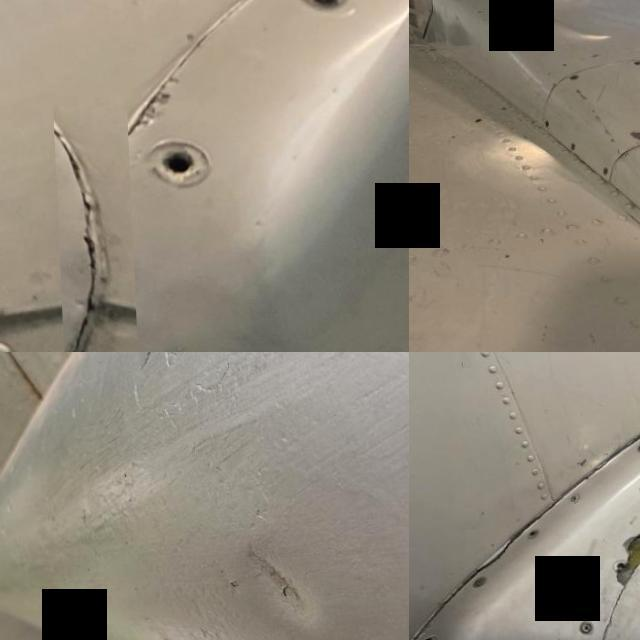Crack: (50, 104, 133, 352), (600, 521, 640, 588), (468, 533, 524, 572)
Dent: (218, 520, 336, 634), (515, 0, 621, 45)
Missing_Fastener: (145, 137, 202, 182), (523, 528, 537, 541), (414, 632, 432, 640), (630, 438, 640, 451)
